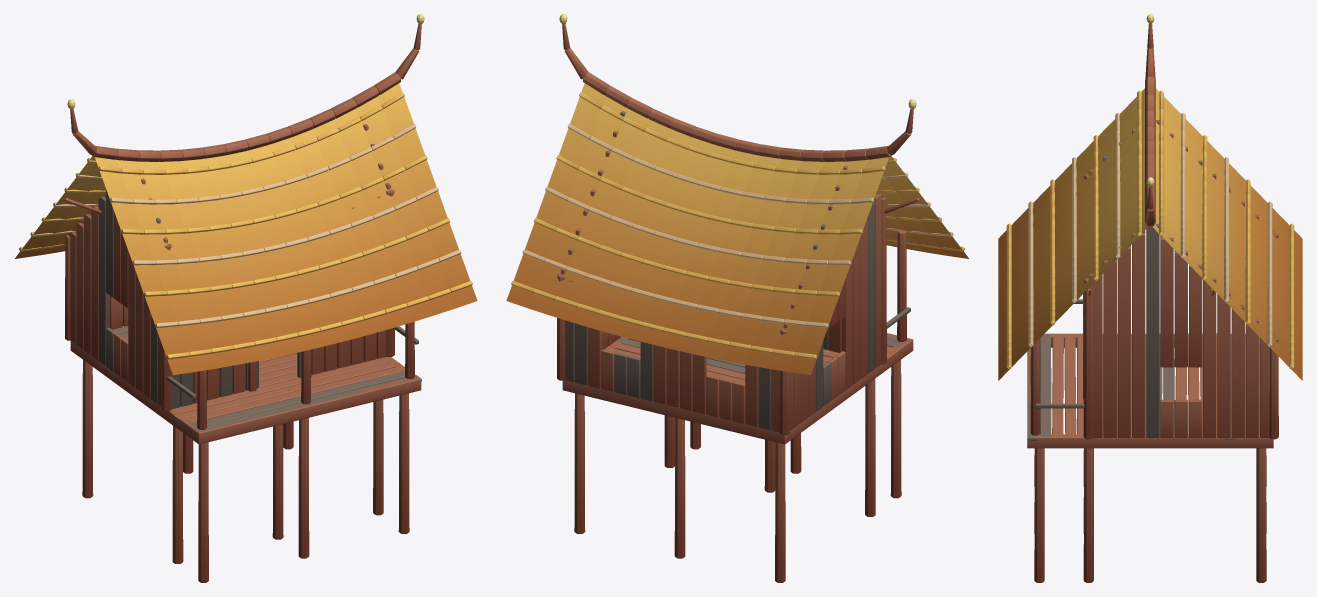
Rendered from stilt_house.glb.
3 renders of one model, left to right at view 1: azimuth 30°, elevation 25°; view 2: azimuth 150°, elevation 25°; view 3: azimuth 270°, elevation 25°, orthographic. The views are drawn at different scales.
Parts seen in each view (by area): view 1: stilt_house; view 2: stilt_house; view 3: stilt_house.
Boxes of the visible parts, box(x1,y1,x2,y2) form: stilt_house: box(15, 14, 477, 582); stilt_house: box(506, 14, 968, 582); stilt_house: box(998, 14, 1302, 582).
Size of the model in its own units: 9.59 by 11.78 by 7.4.
Materials: 1 (1 with a texture image).
